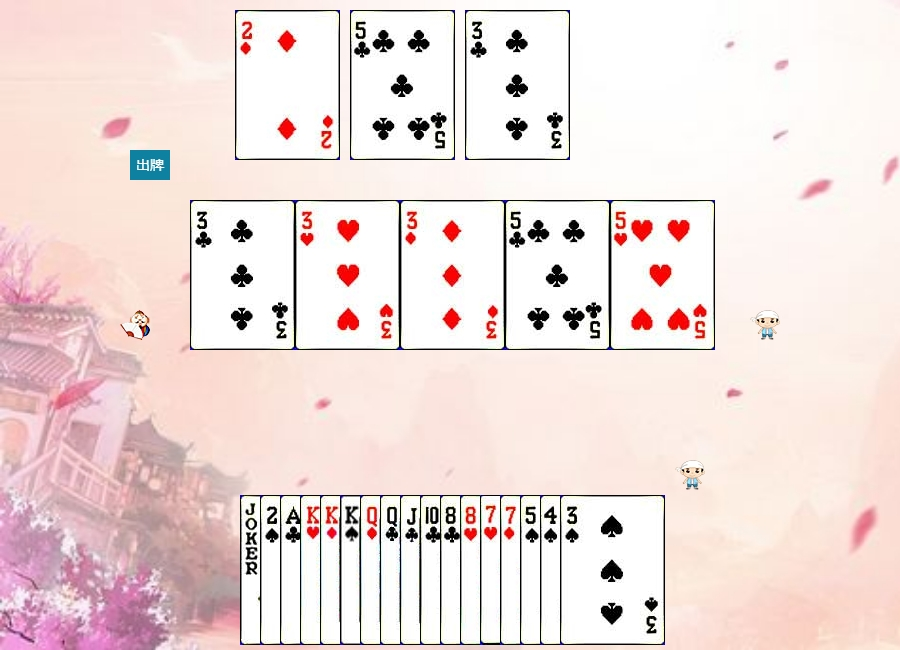10~2: (420, 495, 525, 645)
11~2: (400, 495, 505, 645)
12~1: (360, 495, 465, 645)
12~2: (380, 495, 485, 645)
13~1: (320, 495, 425, 645)
13~3: (300, 495, 405, 645)
13~4: (340, 495, 445, 645)
14~2: (280, 495, 385, 645)
15~1: (235, 10, 340, 160)
15~4: (260, 495, 365, 645)
17~3: (240, 495, 345, 645)
3~1: (400, 200, 505, 350)
3~2: (465, 10, 570, 160), (190, 200, 295, 350)
3~3: (295, 200, 400, 350)
3~4: (560, 495, 665, 645)
4~4: (540, 495, 645, 645)
5~2: (350, 10, 455, 160), (505, 200, 610, 350)
5~3: (610, 200, 715, 350)
5~4: (520, 495, 625, 645)
7~1: (500, 495, 605, 645)
7~3: (480, 495, 585, 645)
8~2: (440, 495, 545, 645)
8~3: (460, 495, 565, 645)
